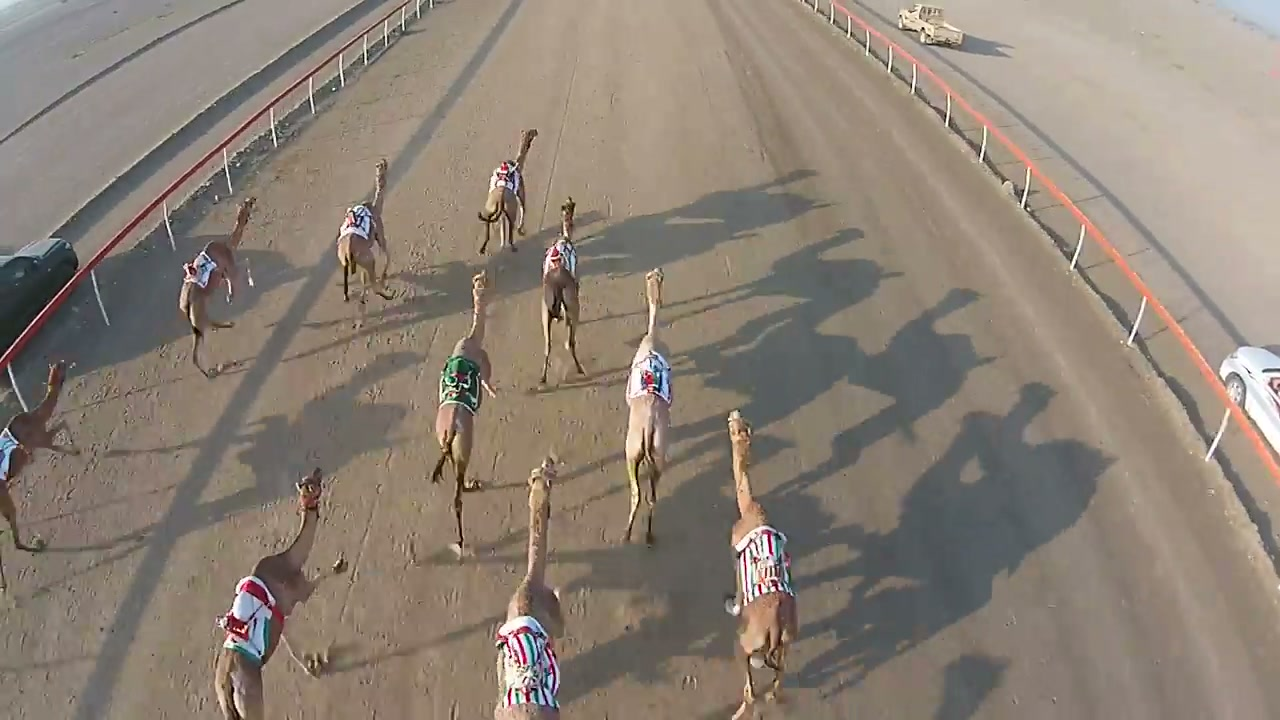animal_footprint: (342, 331, 515, 713), (562, 549, 720, 713)
